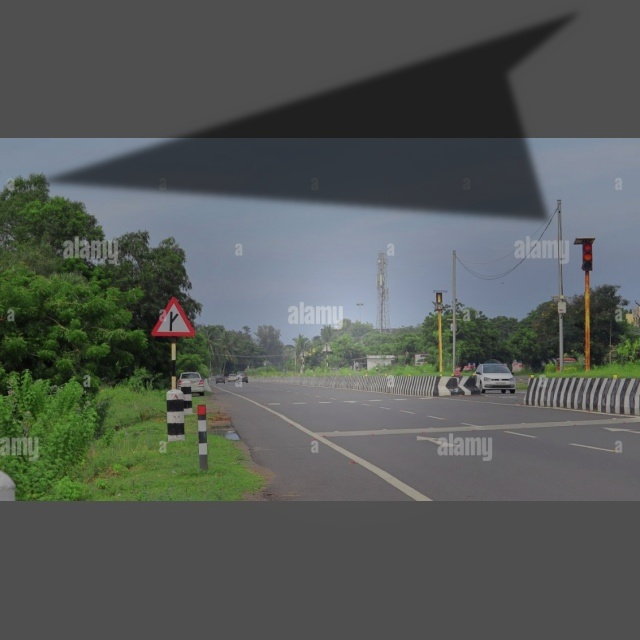Y_Intersection: (148, 296, 199, 345)
